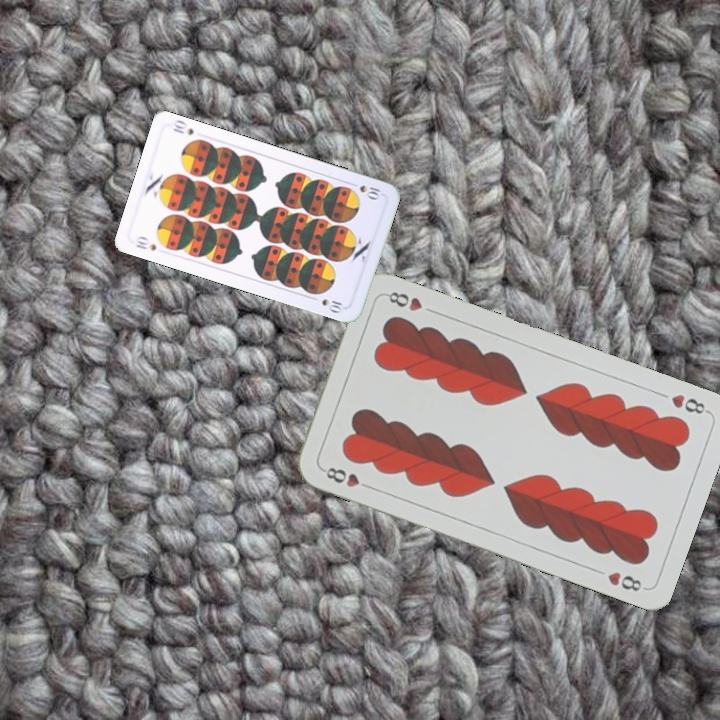H8: (318, 463, 375, 492), (667, 390, 712, 417)
S10: (345, 178, 383, 202), (132, 232, 159, 253)
